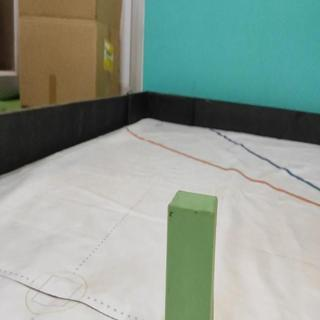greenbox: (165, 187, 218, 320)
